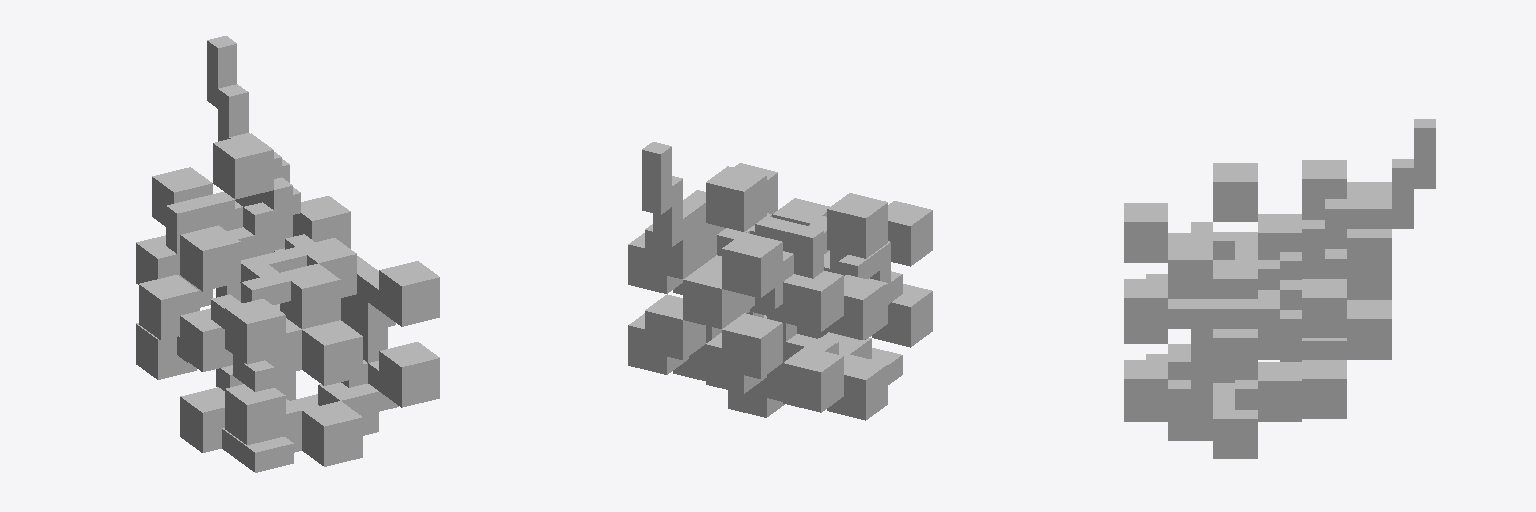
The model's file is 1_4 pitomb.obj.
3 views of the same model, side by side, from view 1: azimuth 30°, elevation 25°; view 2: azimuth 150°, elevation 25°; view 3: azimuth 270°, elevation 25° (orthographic).
Visible parts, largest first — view 1: object 1; view 2: object 1; view 3: object 1.
Boxes of the visible parts, x1=… form: object 1: x1=136, y1=36, x2=439, y2=472; object 1: x1=628, y1=142, x2=932, y2=420; object 1: x1=1124, y1=119, x2=1435, y2=458.
Bounding box in the file's own units: 1.1 × 1.5 × 1.4.